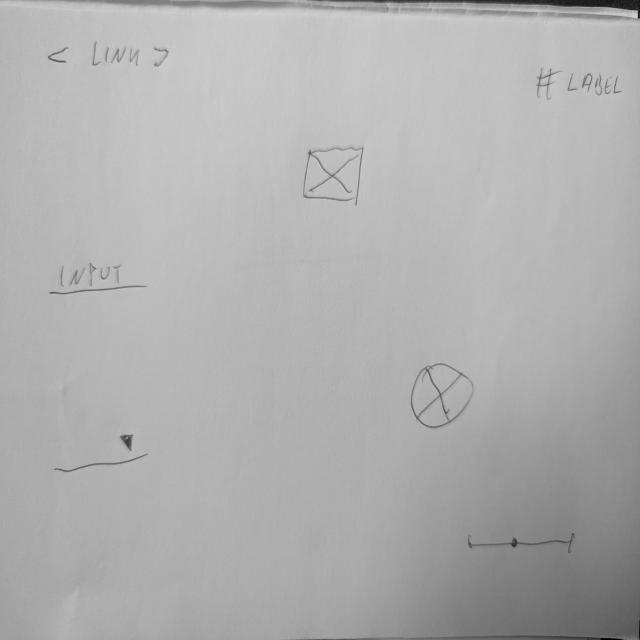image: (409, 361, 478, 433), (300, 143, 369, 207)
input: (48, 260, 151, 299)
label: (534, 64, 625, 106)
link: (47, 40, 173, 73)
select: (53, 426, 152, 481)
slider: (464, 527, 580, 558)
